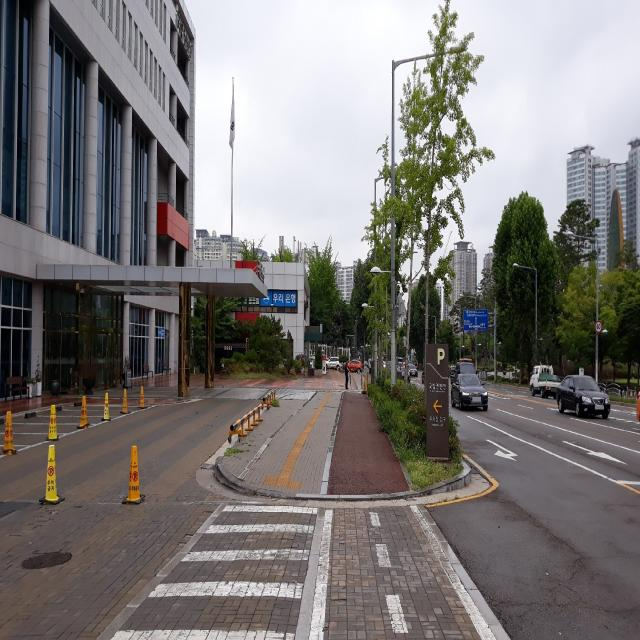횡단보도: (108, 503, 318, 640)
